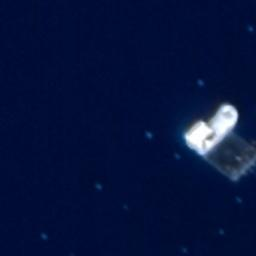square_cover: (202, 129, 256, 184)
